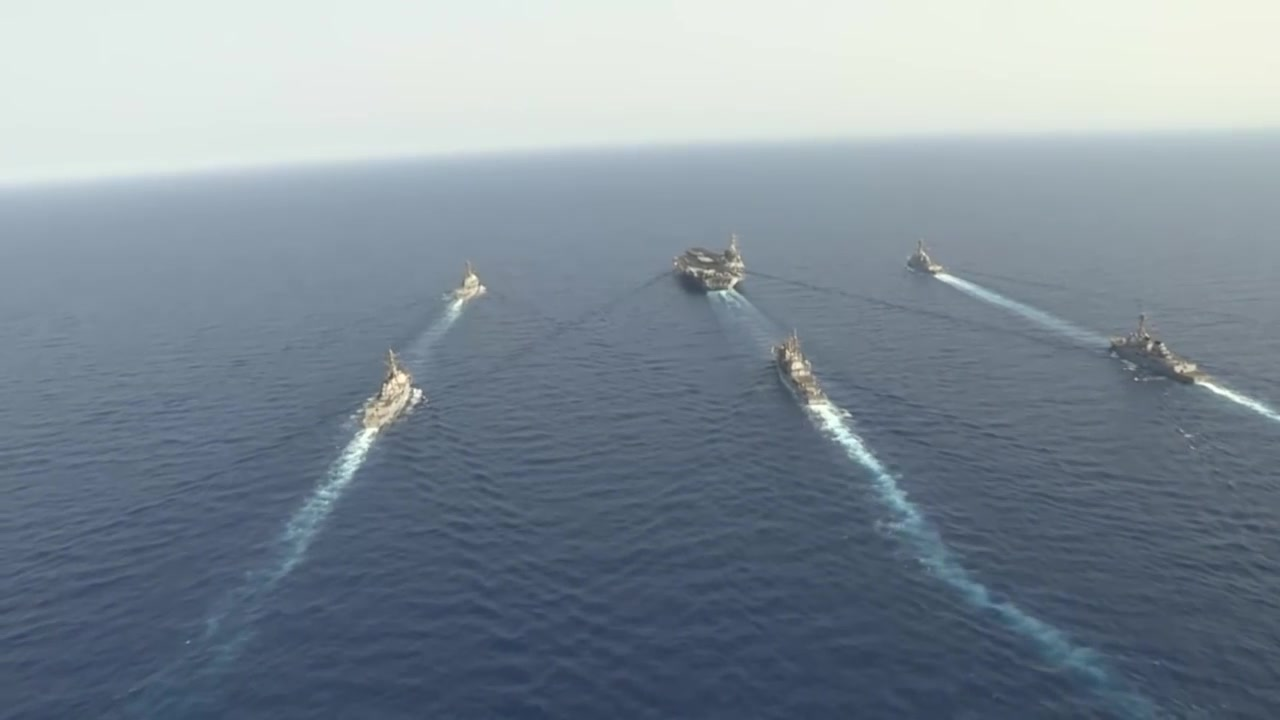WarShip: (1100, 309, 1202, 389), (673, 231, 757, 306), (353, 345, 420, 431), (767, 325, 828, 415), (907, 235, 945, 280), (446, 259, 482, 304)
